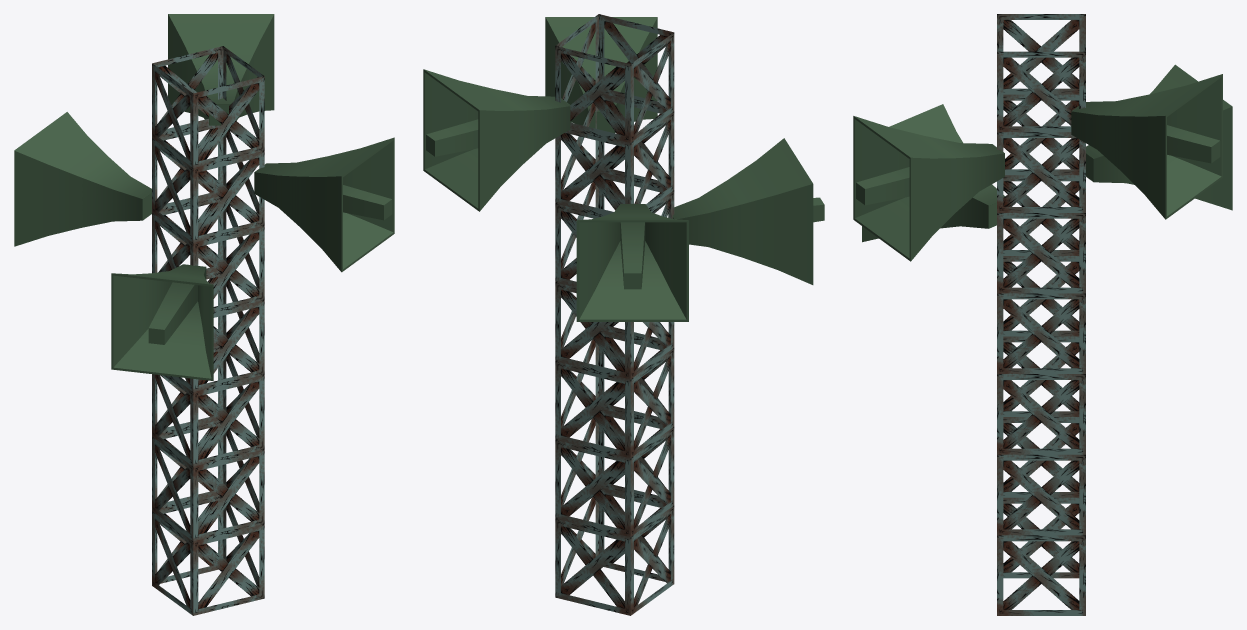
File: PILLAR_SPEAKER.fbx
The picture shows the model from 3 angles, left to right: view 1: azimuth 30°, elevation 25°; view 2: azimuth 150°, elevation 25°; view 3: azimuth 270°, elevation 25°; orthographic projection. The views are drawn at different scales.
Visible parts, largest first — view 1: PILLAR_SPEAKER; view 2: PILLAR_SPEAKER; view 3: PILLAR_SPEAKER.
Boxes of the visible parts, x1,y1,x2,y2 form: PILLAR_SPEAKER: (14, 14, 394, 615); PILLAR_SPEAKER: (423, 14, 824, 615); PILLAR_SPEAKER: (853, 14, 1232, 615).
Size of the model in its own units: 3.77 by 7 by 4.26.
